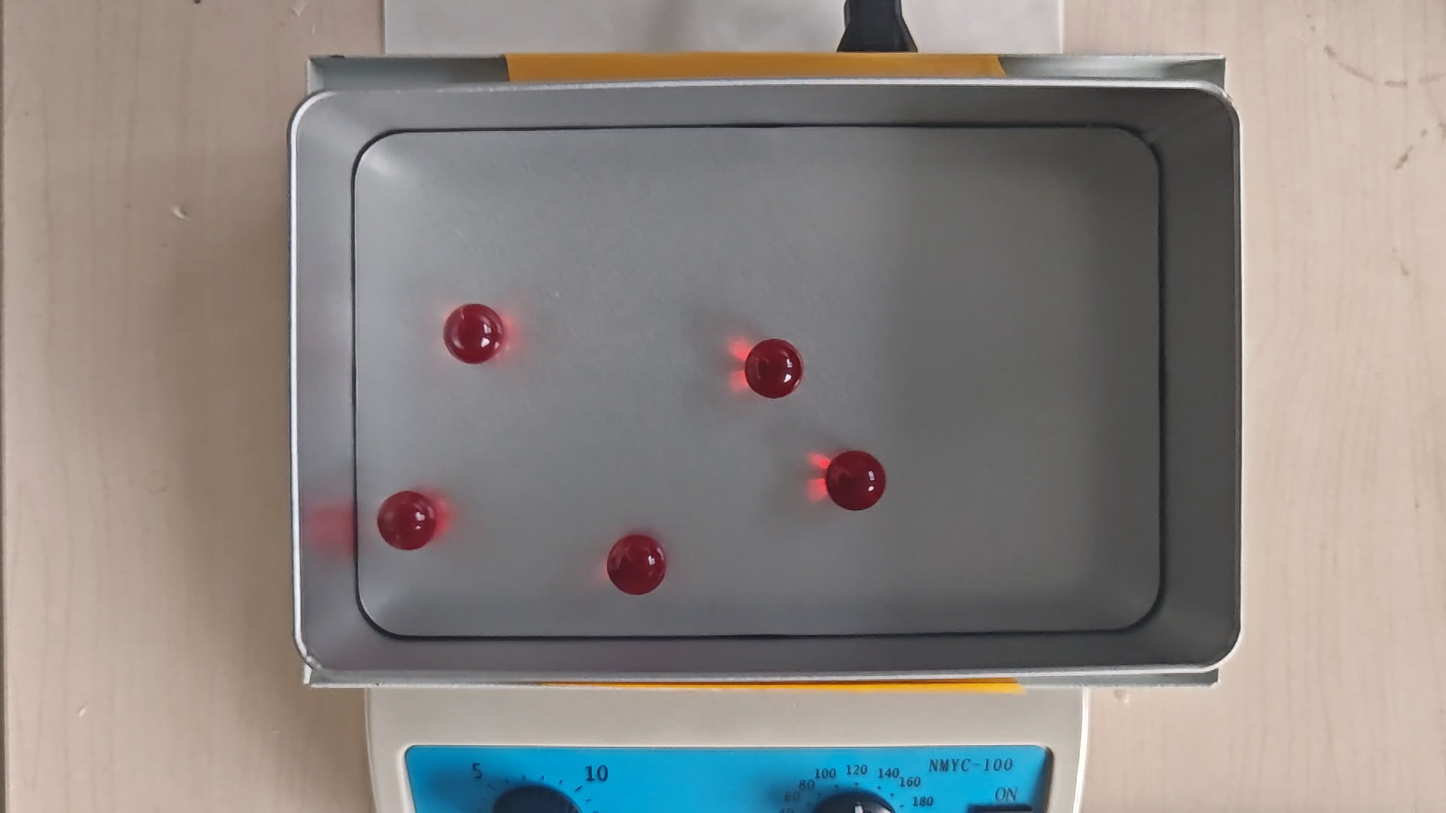ball: (607, 534, 668, 598), (445, 306, 506, 367), (828, 449, 886, 512), (746, 338, 804, 400), (377, 492, 437, 550)
container: (349, 124, 1162, 635)
